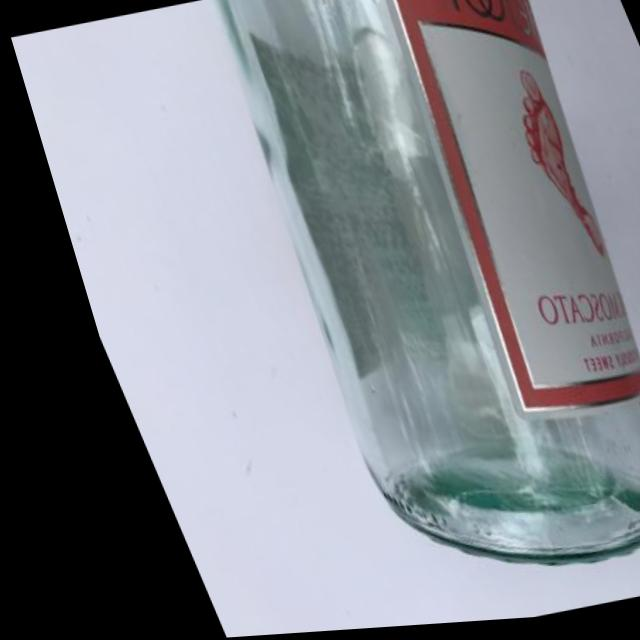glass: (128, 0, 640, 633)
